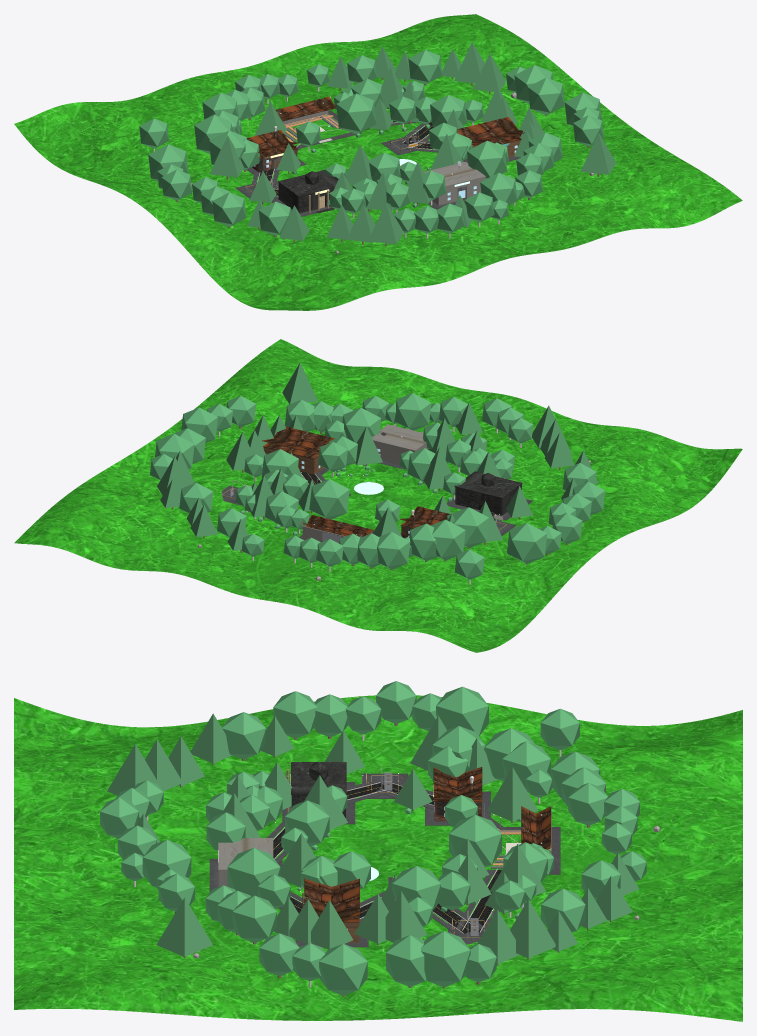
File: station.glb
3 views of the same model, one above another, from view 1: azimuth 30°, elevation 25°; view 2: azimuth 150°, elevation 25°; view 3: azimuth 270°, elevation 25° (orthographic). The views are drawn at different scales.
Visible parts, largest first — view 1: terrain.grass, tree.oak.crown.4, tree.oak.crown.19, tree.oak.crown.253, tree.oak.crown.217, tree.oak.crown.262, tree.oak.crown.259, tree.oak.crown.268, tree.pine.crown.264, tree.pine.crown.204, tree.oak.crown.214, vault.roof (+36 smaller); view 2: terrain.grass, tree.oak.crown.4, tree.oak.crown.259, tree.oak.crown.268, tree.oak.crown.214, tree.oak.crown.244, tree.oak.crown.208, tree.oak.crown.19, war.roof, vault.roof, tree.oak.crown.223, tree.oak.crown.238 (+25 smaller); view 3: terrain.grass, tree.oak.crown.229, tree.oak.crown.223, tree.oak.crown.259, tree.oak.crown.4, tree.pine.crown.264, tree.oak.crown.19, tree.oak.crown.253, tree.oak.crown.202, tree.oak.crown.247, tree.oak.crown.268, tree.pine.crown.234 (+68 smaller).
Part boxes in pixels (x1=…): terrain.grass: x1=14, y1=14, x2=742, y2=310; tree.oak.crown.4: x1=336, y1=93, x2=376, y2=133; tree.oak.crown.19: x1=467, y1=140, x2=507, y2=179; tree.oak.crown.253: x1=527, y1=77, x2=564, y2=114; tree.oak.crown.217: x1=212, y1=192, x2=246, y2=226; tree.oak.crown.262: x1=408, y1=50, x2=442, y2=84; tree.oak.crown.259: x1=148, y1=144, x2=188, y2=180; tree.oak.crown.268: x1=480, y1=172, x2=517, y2=205; tree.pine.crown.264: x1=581, y1=132, x2=616, y2=174; tree.pine.crown.204: x1=368, y1=202, x2=403, y2=244; tree.oak.crown.214: x1=194, y1=115, x2=231, y2=153; vault.roof: x1=278, y1=170, x2=338, y2=196; terrain.grass: x1=14, y1=339, x2=742, y2=652; tree.oak.crown.4: x1=309, y1=479, x2=349, y2=519; tree.oak.crown.259: x1=506, y1=523, x2=547, y2=563; tree.oak.crown.268: x1=394, y1=393, x2=431, y2=430; tree.oak.crown.214: x1=430, y1=519, x2=465, y2=560; tree.oak.crown.244: x1=452, y1=507, x2=488, y2=547; tree.oak.crown.208: x1=377, y1=532, x2=410, y2=569; tree.oak.crown.19: x1=342, y1=407, x2=381, y2=442; war.roof: x1=371, y1=424, x2=426, y2=451; vault.roof: x1=454, y1=471, x2=522, y2=498; tree.oak.crown.223: x1=181, y1=407, x2=217, y2=442; tree.oak.crown.238: x1=409, y1=523, x2=437, y2=561; terrain.grass: x1=14, y1=695, x2=742, y2=1021; tree.oak.crown.229: x1=421, y1=931, x2=470, y2=986; tree.oak.crown.223: x1=319, y1=944, x2=367, y2=995; tree.oak.crown.259: x1=436, y1=686, x2=488, y2=736; tree.oak.crown.4: x1=449, y1=814, x2=501, y2=867; tree.pine.crown.264: x1=156, y1=897, x2=212, y2=956; tree.oak.crown.19: x1=227, y1=848, x2=280, y2=896; tree.oak.crown.253: x1=386, y1=935, x2=426, y2=986; tree.oak.crown.202: x1=232, y1=895, x2=276, y2=942; tree.oak.crown.247: x1=222, y1=712, x2=265, y2=758; tree.oak.crown.268: x1=142, y1=839, x2=191, y2=887; tree.pine.crown.234: x1=510, y1=899, x2=555, y2=958.
Bounding box in the file's own units: 220 × 28.01 × 220.
43 materials, 10 textured.
